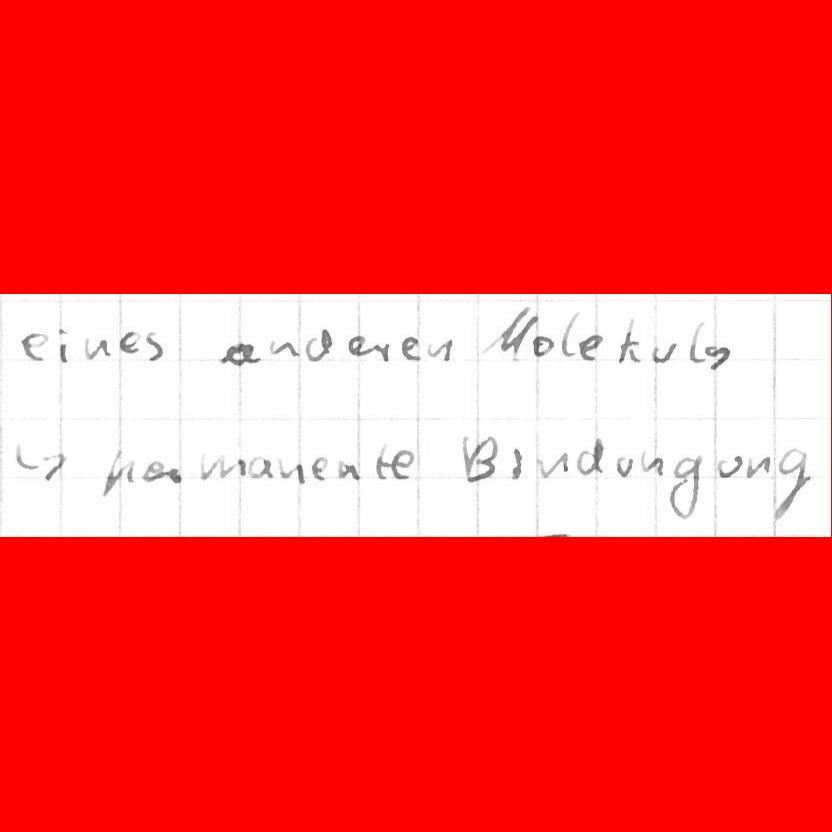Char: (768, 446, 815, 526), (481, 310, 534, 361), (668, 452, 702, 521), (460, 431, 502, 484), (99, 449, 135, 497), (15, 448, 62, 481), (200, 452, 249, 481), (216, 339, 260, 368), (576, 436, 603, 478), (616, 321, 642, 364), (19, 329, 49, 362), (304, 328, 331, 362), (686, 321, 707, 364), (538, 450, 567, 480), (558, 315, 578, 358), (426, 333, 453, 362), (391, 446, 414, 479), (83, 335, 112, 361), (277, 456, 304, 483), (744, 454, 772, 480), (143, 330, 165, 362), (650, 340, 678, 365), (641, 447, 664, 476), (56, 325, 74, 362), (507, 442, 524, 481), (266, 338, 299, 358), (707, 344, 733, 369), (531, 332, 555, 359), (373, 442, 390, 480), (399, 334, 422, 362), (578, 333, 601, 361), (717, 454, 742, 479), (345, 333, 370, 357), (141, 459, 165, 483), (119, 330, 141, 356), (249, 456, 273, 479), (338, 457, 361, 480), (370, 339, 391, 363), (311, 456, 331, 480), (615, 456, 637, 477), (166, 467, 185, 483), (0, 432, 5, 478)
